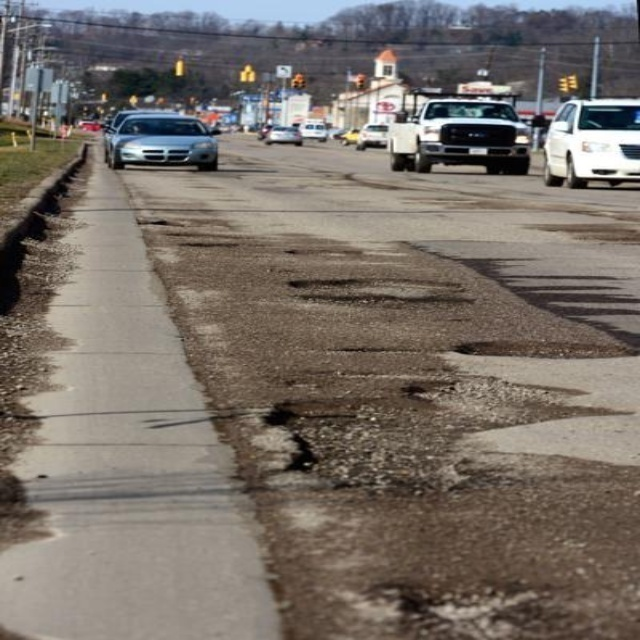pothole: (202, 319, 634, 595), (301, 262, 485, 316), (154, 217, 288, 272)
